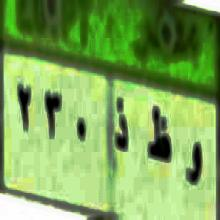0: (74, 109, 89, 150)
2: (15, 74, 32, 138)
3: (44, 89, 64, 147)
Thaa: (147, 103, 172, 171)
waw: (185, 141, 203, 193)
zaal: (112, 92, 131, 165)
